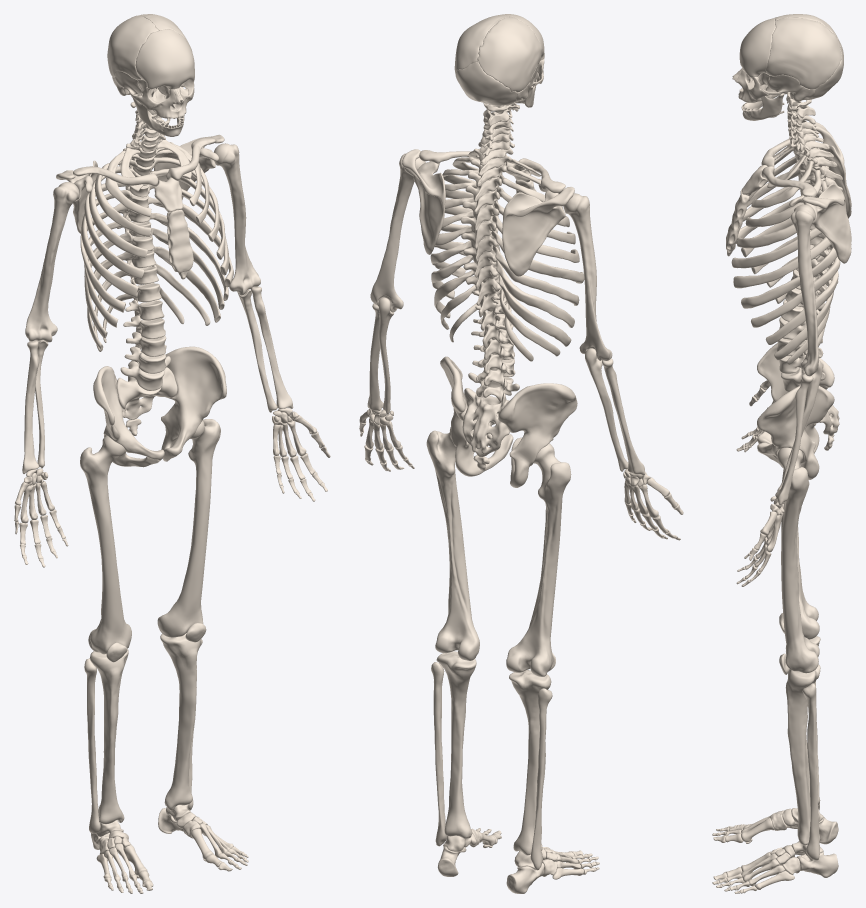
File: skeleton.glb
3 renders of one model, left to right at view 1: azimuth 30°, elevation 25°; view 2: azimuth 150°, elevation 25°; view 3: azimuth 270°, elevation 25°, orthographic. The views are drawn at different scales.
Parts seen in each view (by area): view 1: FMA24474, FMA24475, FMA16587, FMA24478, FMA24477, FMA52734, FMA23130, FMA23131, FMA16586, FMA7371 (×2), FMA52788, FMA16202 (+21 smaller); view 2: FMA24474, FMA24475, FMA16586, FMA13395, FMA52788, FMA24478, FMA24477, FMA23130, FMA13396, FMA16587, FMA23131, FMA16202 (+15 smaller); view 3: FMA24475, FMA52789, FMA16587, FMA24478, FMA23131, FMA13396, FMA24481, FMA16586, FMA52734, FMA23465, FMA7371 (×2), FMA8256 (+25 smaller).
Boxes of the visible parts, <box> form: FMA24474: <box>80,435,131,654</box>; FMA24475: <box>157,419,220,637</box>; FMA16587: <box>161,346,226,461</box>; FMA24478: <box>160,633,201,810</box>; FMA24477: <box>89,649,128,824</box>; FMA52734: <box>135,29,194,89</box>; FMA23130: <box>25,182,79,342</box>; FMA23131: <box>214,143,260,295</box>; FMA16586: <box>93,366,164,467</box>; FMA7371 (×2): <box>154,177,193,272</box>; FMA52788: <box>107,15,158,79</box>; FMA16202: <box>116,367,177,419</box>; FMA24474: <box>506,443,571,676</box>; FMA24475: <box>426,427,479,660</box>; FMA16586: <box>498,383,577,487</box>; FMA13395: <box>502,187,574,276</box>; FMA52788: <box>477,16,542,92</box>; FMA24478: <box>436,651,476,838</box>; FMA24477: <box>509,670,551,855</box>; FMA23130: <box>563,193,612,360</box>; FMA13396: <box>402,149,445,254</box>; FMA16587: <box>440,356,513,476</box>; FMA23131: <box>370,153,425,312</box>; FMA16202: <box>462,387,509,456</box>; FMA24475: <box>777,447,819,673</box>; FMA52789: <box>765,17,841,89</box>; FMA16587: <box>757,385,834,479</box>; FMA24478: <box>785,664,820,845</box>; FMA23131: <box>790,204,818,376</box>; FMA13396: <box>789,183,851,263</box>; FMA24481: <box>802,683,819,860</box>; FMA16586: <box>757,343,834,453</box>; FMA52734: <box>739,17,775,77</box>; FMA23465: <box>775,374,813,505</box>; FMA7371 (×2): <box>726,165,767,251</box>; FMA8256: <box>741,247,837,308</box>.
Size of the model in its own units: 0.671 by 1.7 by 0.2542.
